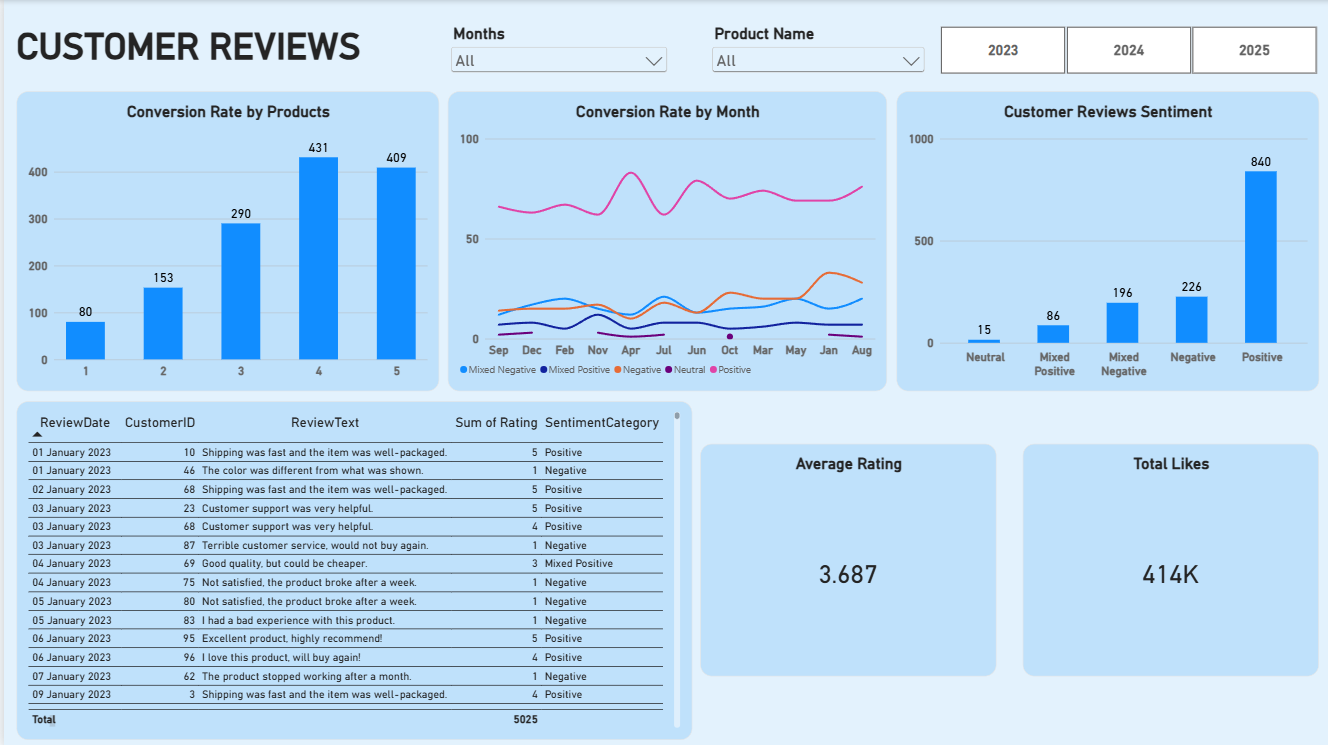

This screenshot's page, from the dashboard's own definition file:
{"tool":"powerbi","page":{"name":"Reviews","canvas":[1920,1080],"ordinal":3},"visuals":[{"type":"textbox","box":[18,36,506,72],"z":0},{"type":"columnChart","title":"Customer Reviews Sentiment","fields":{"Category":["fact_customer_reviews_with_sentiment.SentimentCategory"],"Y":["_Calculation_.Number of customer reviews"]},"box":[1292,132,612,434],"z":1000},{"type":"columnChart","title":"Ratings Distribution","fields":{"Category":["fact_customer_reviews_with_sentiment.Rating"],"Y":["_Calculation_.Number of customer reviews"]},"box":[18,132,612,434],"z":2000},{"type":"slicer","fields":{"Values":["Calendar.Date.Variation.Date Hierarchy.Year"]},"box":[1336,36,584,72],"z":3000},{"type":"textbox","box":[18.1,1035.1,56.1,45.2],"z":4000},{"type":"slicer","fields":{"Values":["Facts_products.ProductName"]},"box":[1020,35,316.7,72.4],"z":5000},{"type":"lineChart","title":"Ratings Distribution by Month","fields":{"Category":["Calendar.Months"],"Series":["fact_customer_reviews_with_sentiment.SentimentCategory"],"Y":["_Calculation_.Number of customer reviews"]},"box":[642,132,636,434],"z":6000},{"type":"tableEx","fields":{"Values":["fact_customer_reviews_with_sentiment.ReviewDate","fact_customer_reviews_with_sentiment.CustomerID","fact_customer_reviews_with_sentiment.ReviewText","Sum(fact_customer_reviews_with_sentiment.Rating)","fact_customer_reviews_with_sentiment.SentimentCategory"]},"box":[18,580,978,490],"z":7000},{"type":"slicer","fields":{"Values":["Calendar.Months"]},"box":[642.5,35,322.5,72.5],"z":8000},{"type":"cardVisual","title":"Average Rating","fields":{"Data":["_Calculation_.Rating(Average)"]},"box":[1008,642.4,428.9,336.6],"z":9000},{"type":"cardVisual","title":"Total Likes","fields":{"Data":["_Calculation_.Likes"]},"box":[1474.9,642.4,428.9,336.6],"z":10000}]}

Visuals, with their boxes in screenshot pixels (x1, y1, x2, y2), scaled from the page's 1920x1080 canvas onto the 1328x745 screenshot:
textbox: detection(12, 25, 362, 74)
"Customer Reviews Sentiment" columnChart: detection(894, 91, 1317, 390)
"Ratings Distribution" columnChart: detection(12, 91, 436, 390)
slicer - Calendar.Date.Variation.Date Hierarchy.Year: detection(924, 25, 1327, 74)
textbox: detection(13, 714, 51, 744)
slicer - Facts_products.ProductName: detection(706, 24, 925, 74)
"Ratings Distribution by Month" lineChart: detection(444, 91, 884, 390)
tableEx - fact_customer_reviews_with_sentiment.ReviewDate x fact_customer_reviews_with_sentiment.CustomerID: detection(12, 400, 689, 738)
slicer - Calendar.Months: detection(444, 24, 667, 74)
"Average Rating" cardVisual: detection(697, 443, 994, 675)
"Total Likes" cardVisual: detection(1020, 443, 1317, 675)
